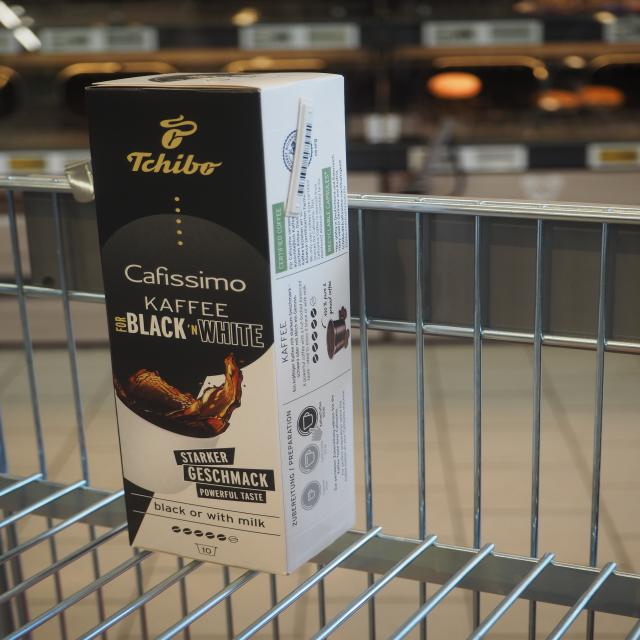Simo Kaffee BW: (83, 81, 310, 582)
